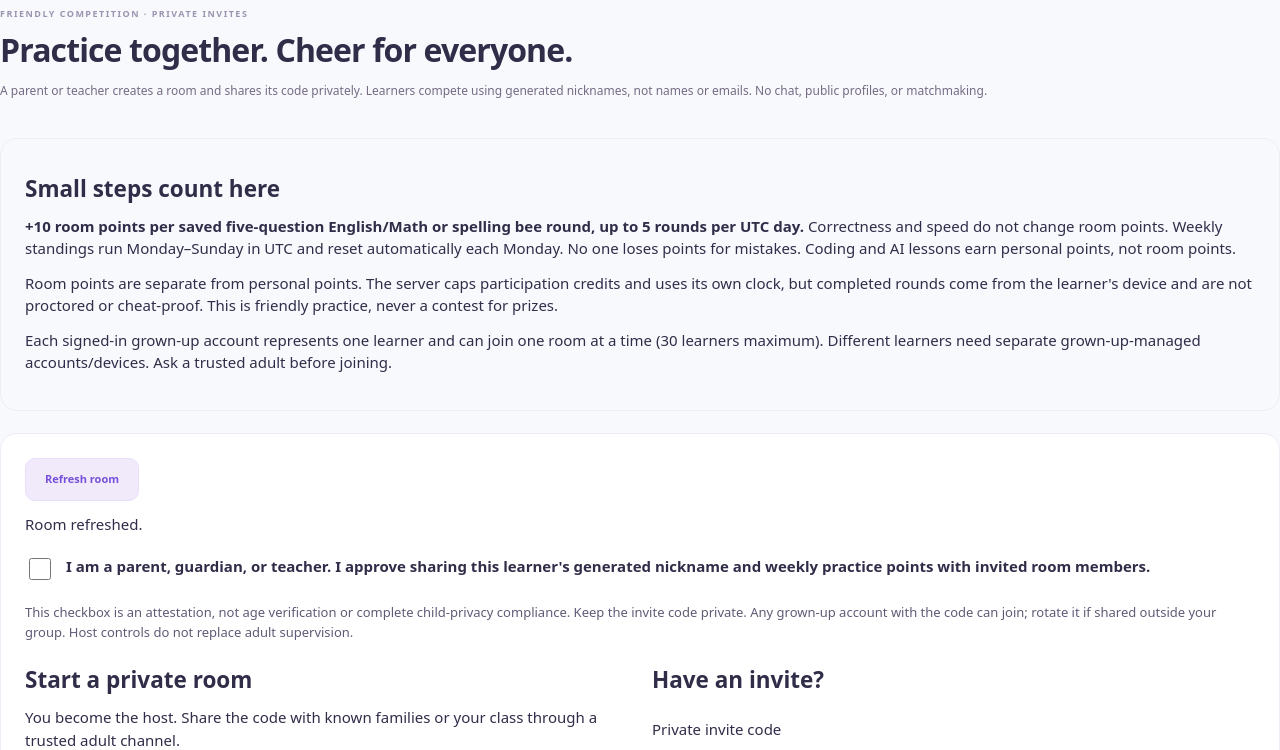
Test: private rooms UI › requires grown-up opt-in, creates the room and keeps the code under host disclosure
Click the checkbox: click(40, 569) [29,558,51,580]
(page scrolled)
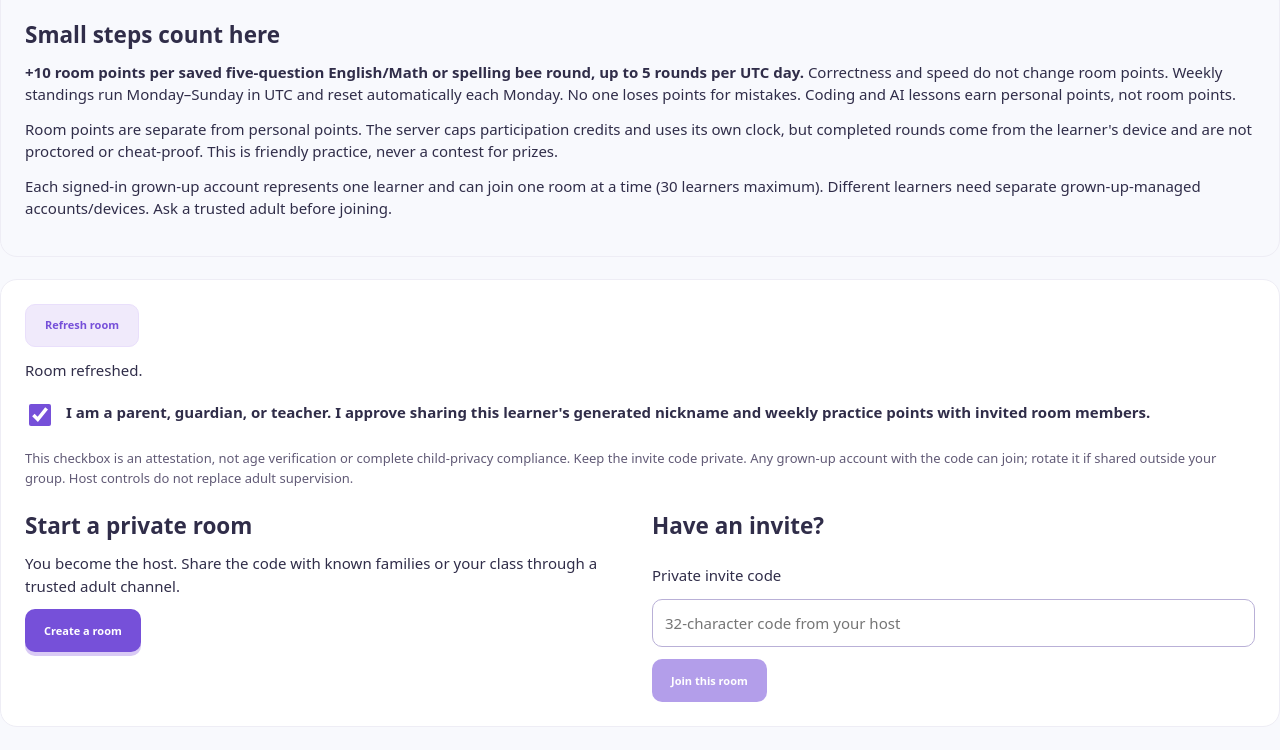
Click the button "Create a room": click(83, 631) [25,609,141,652]
(page scrolled)
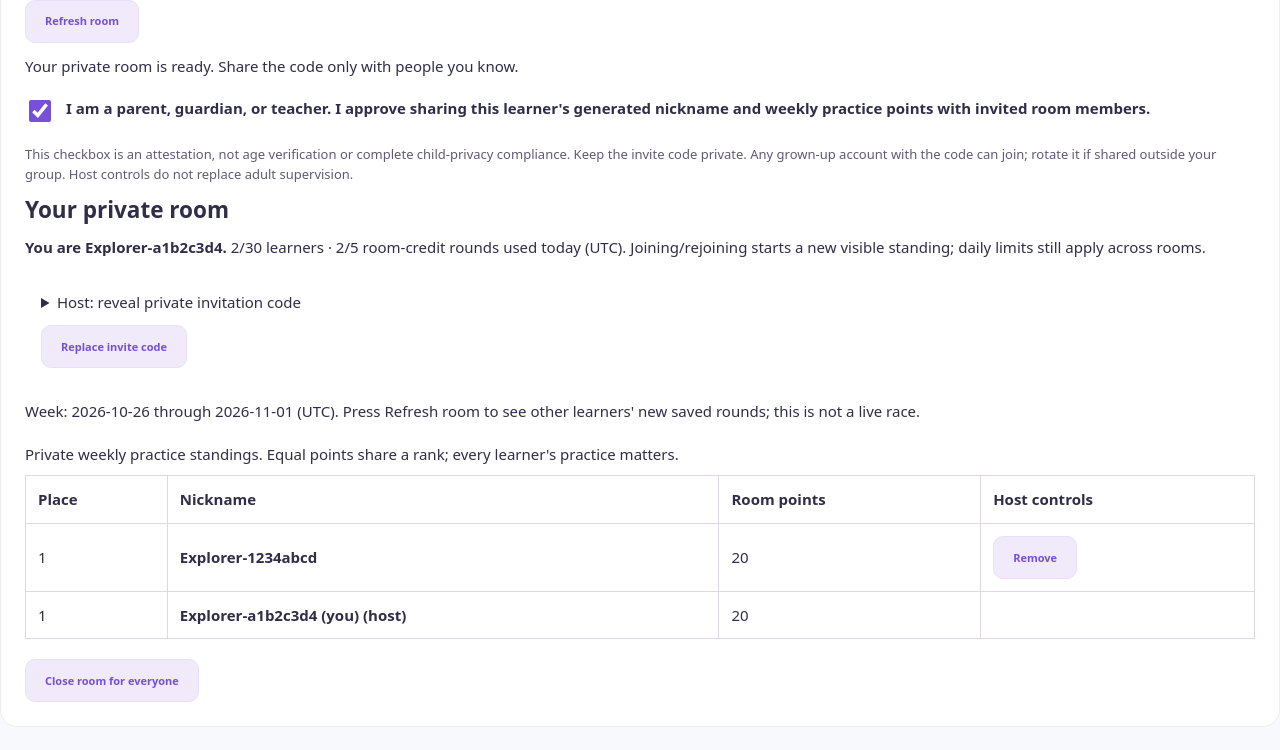
Expected: the cell "1" next to "Explorer-1234abcd" is shown, [38,547,47,567]
Expected: the cell "1" in the row of "(you)" is shown, [38,605,47,625]
